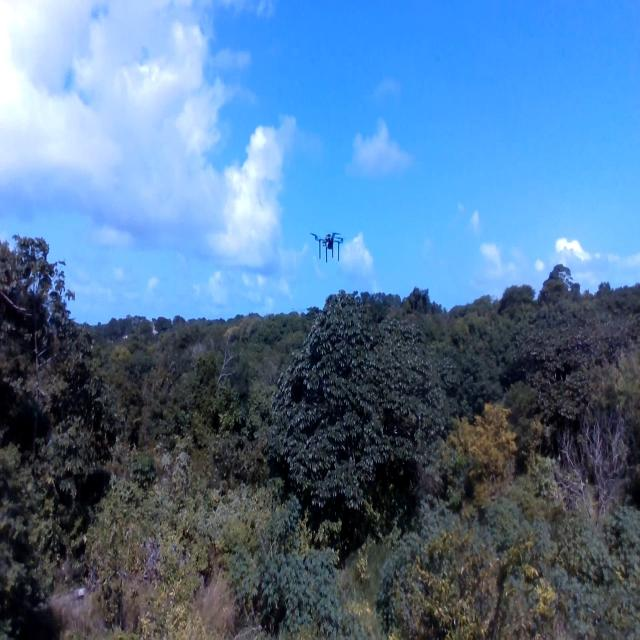-uav-: (307, 224, 348, 271)
